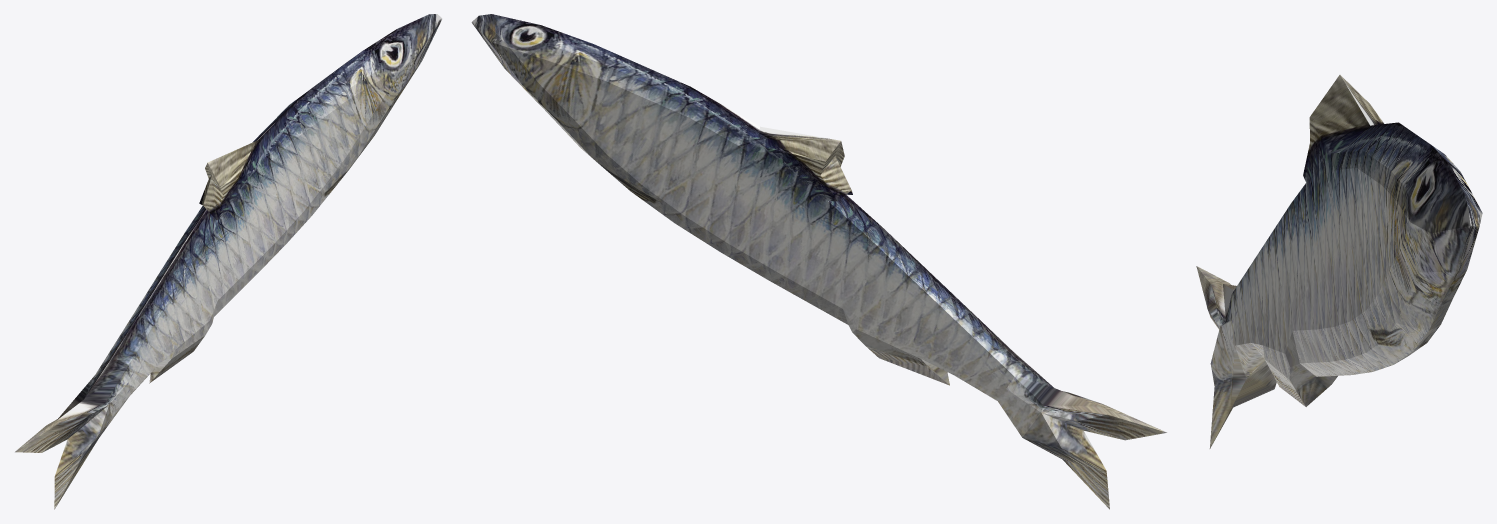
The model's file is Sardine.fbx.
The picture shows the model from 3 angles, left to right: view 1: azimuth 30°, elevation 25°; view 2: azimuth 150°, elevation 25°; view 3: azimuth 270°, elevation 25°; orthographic projection. The views are drawn at different scales.
Parts seen in each view (by area): view 1: Plane; view 2: Plane; view 3: Plane.
Boxes of the visible parts, x1=… form: Plane: x1=15, y1=14, x2=442, y2=509; Plane: x1=471, y1=14, x2=1166, y2=509; Plane: x1=1196, y1=75, x2=1482, y2=448.
Size of the model in its own units: 45.52 by 29.97 by 11.37.
